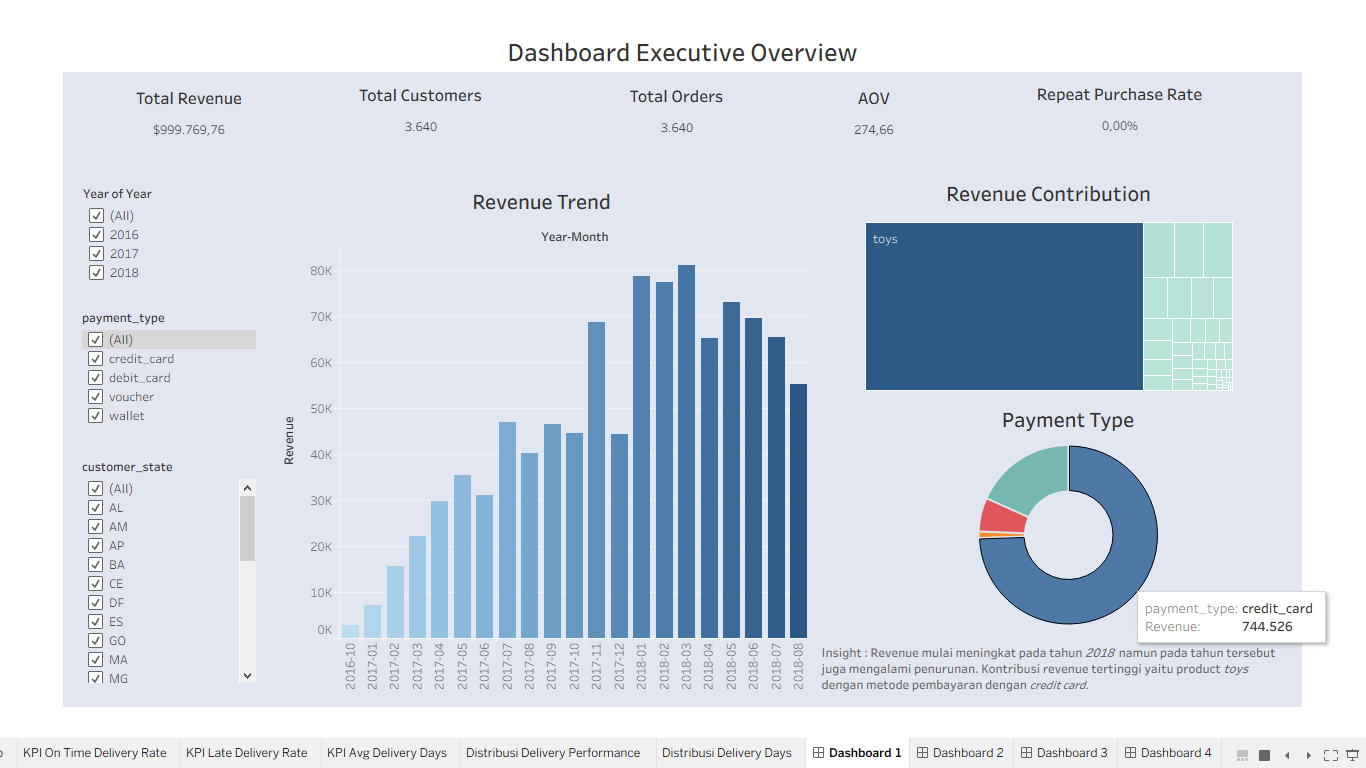

What the dashboard file says about the page in this screenshot:
{"tool":"tableau","page":{"name":"Dashboard 1","canvas":[1000,1000],"units":"permille","ordinal":0},"visuals":[{"type":"title","box":[6.4,11.6,987.3,59.2]},{"type":"worksheet","title":"Repeat Purchase Rate","mark":"Automatic","box":[762.8,81.1,205.2,114.9]},{"type":"worksheet","title":"Total Customers","mark":"Automatic","box":[214.7,82.8,174,140.2]},{"type":"worksheet","title":"Total Orders","mark":"Automatic","box":[432,84.5,137.7,138.5]},{"type":"worksheet","title":"Total Revenue","mark":"Automatic","box":[32,86.2,163.6,133.4]},{"type":"worksheet","title":"AOV","mark":"Automatic","box":[594.8,86.2,142,118.2]},{"type":"worksheet","title":"Revenue Contribution","mark":"Automatic","box":[642.4,219.6,328.1,315.9]},{"type":"worksheet","title":"Revenue Trend","mark":"Automatic","rows":["Revenue"],"cols":["Year-Month"],"box":[174,231.4,427.7,744.9]},{"type":"filter","title":"Revenue Trend","param":"[federated.1f8i99j1ce6ojk163d81c1wlhtrb].[yr:Calculation_0312003758518272:ok]","box":[22.5,234.8,138.5,168.9]},{"type":"filter","title":"Revenue Trend","param":"[federated.1f8i99j1ce6ojk163d81c1wlhtrb].[none:payment_type:nk]","box":[21.7,413.9,138.5,201]},{"type":"worksheet","title":"Payment Type","box":[645,545.6,323.8,324.3]},{"type":"filter","title":"Revenue Trend","param":"[federated.1f8i99j1ce6ojk163d81c1wlhtrb].[none:customer_state:nk]","box":[21.7,628.4,138.5,326]},{"type":"text","box":[608.7,890.2,368.8,86.2]}]}

Visuals, with their boxes on the dashboard's canvas, which has no fixed pixel size, in thousandths of its width and height (x1, y1, x2, y2). These are canvas units, not pixel positions in the 1366x768 screenshot, which may show the page scaled, cropped or inside an application window:
title: select_region(6, 12, 994, 71)
"Repeat Purchase Rate" worksheet: select_region(763, 81, 968, 196)
"Total Customers" worksheet: select_region(215, 83, 389, 223)
"Total Orders" worksheet: select_region(432, 84, 570, 223)
"Total Revenue" worksheet: select_region(32, 86, 196, 220)
"AOV" worksheet: select_region(595, 86, 737, 204)
"Revenue Contribution" worksheet: select_region(642, 220, 970, 536)
"Revenue Trend" worksheet: select_region(174, 231, 602, 976)
"Revenue Trend" filter: select_region(22, 235, 161, 404)
"Revenue Trend" filter: select_region(22, 414, 160, 615)
"Payment Type" worksheet: select_region(645, 546, 969, 870)
"Revenue Trend" filter: select_region(22, 628, 160, 954)
text: select_region(609, 890, 978, 976)
